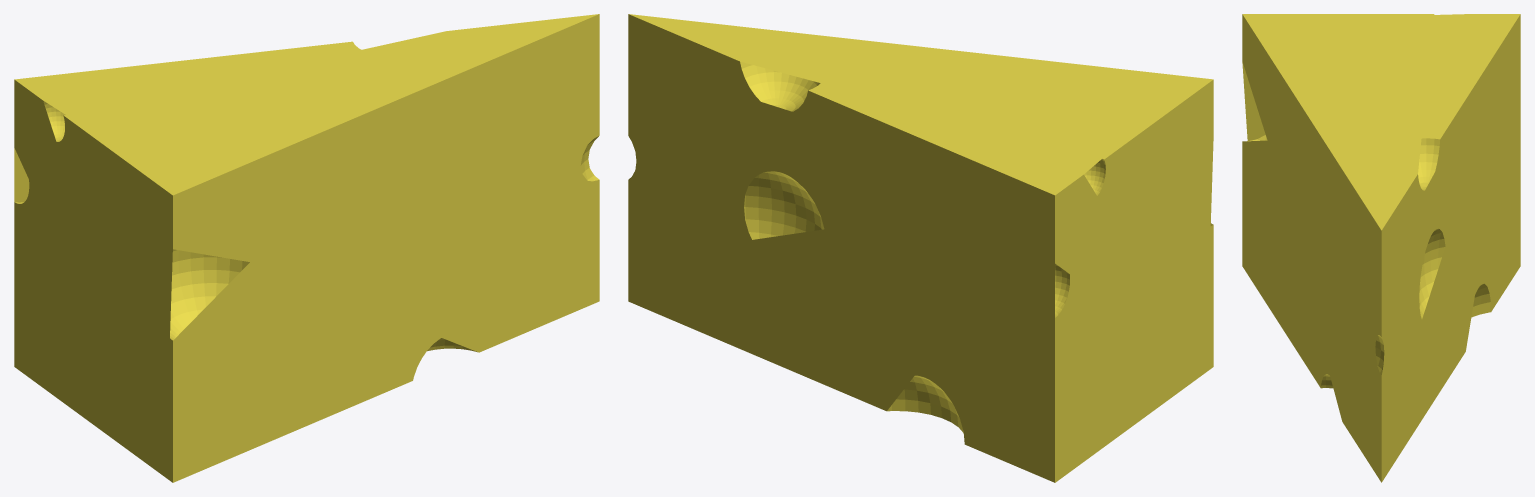
The model's file is sir.fbx.
The picture shows the model from 3 angles, left to right: view 1: azimuth 30°, elevation 25°; view 2: azimuth 150°, elevation 25°; view 3: azimuth 270°, elevation 25°; orthographic projection. The views are drawn at different scales.
Visible parts, largest first — view 1: Cube; view 2: Cube; view 3: Cube.
Part boxes in pixels (x1,y1,x2,y2): Cube: [14, 14, 599, 482]; Cube: [628, 14, 1213, 482]; Cube: [1242, 14, 1520, 482].
Size of the model in its own units: 368 by 200 by 200.
